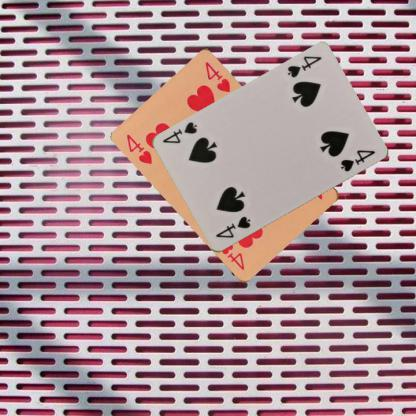4h: (124, 131, 154, 165)
4s: (213, 214, 252, 240), (284, 54, 323, 79)
